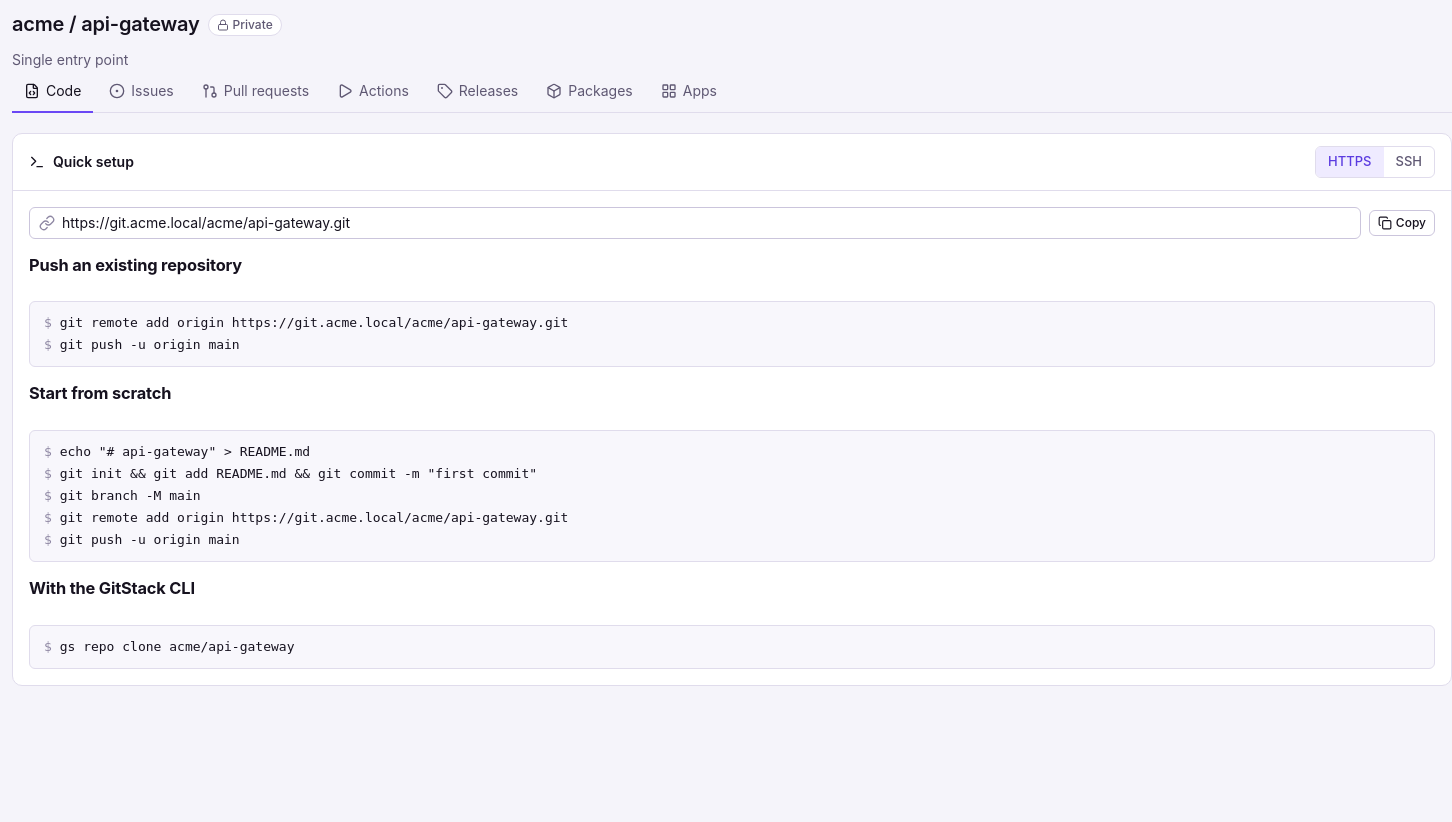
Test: RepoPage › repo vuoto: quick setup con indirizzi dalla risposta e copia
Expected: the field named "Clone URL" holds "https://git.acme.local/acme/api-gateway.git", [29,206,1361,238]
Click the button "SSH" at point(1409, 162), box [1384,147,1434,176]
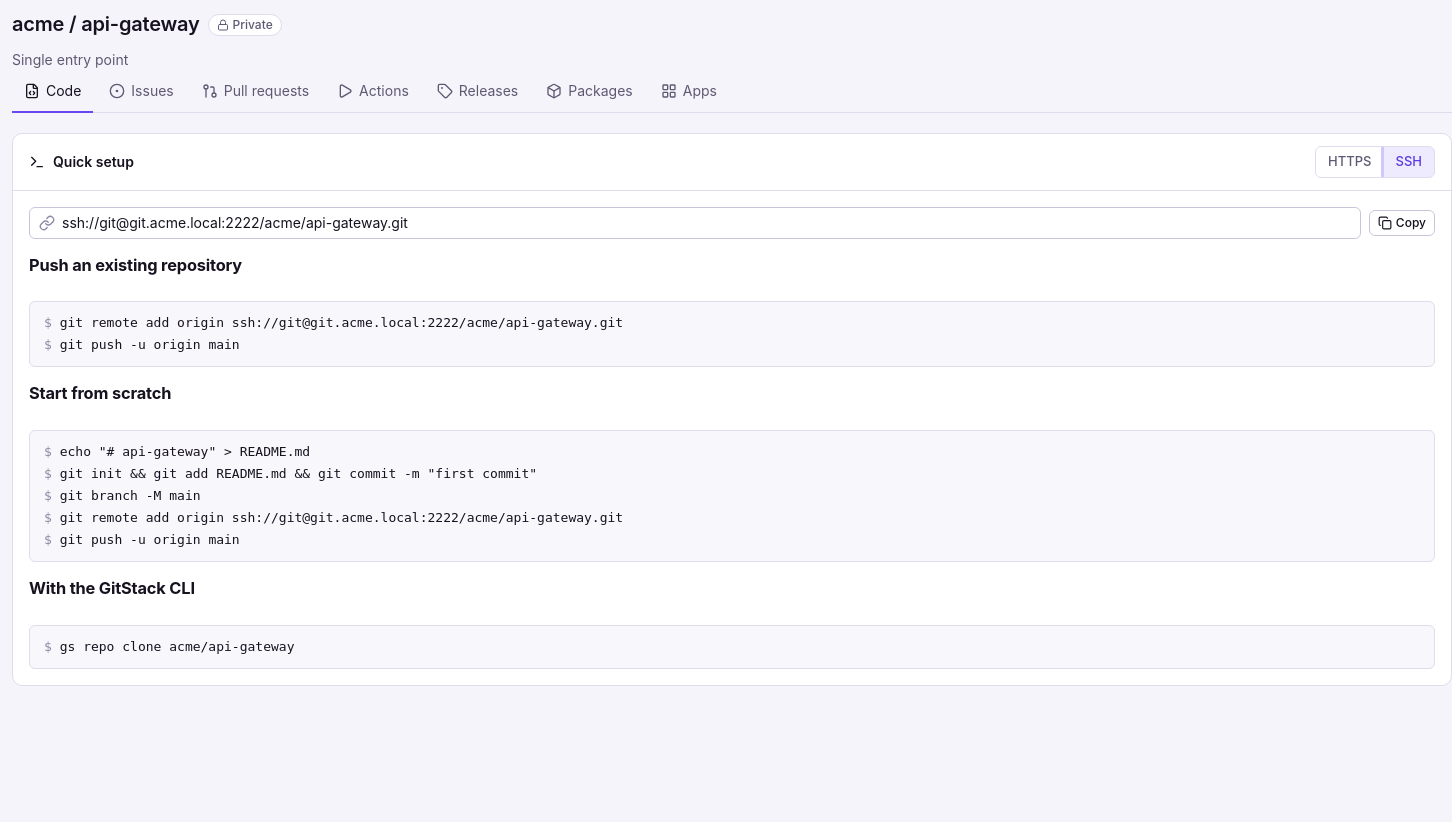
Result: the field named "Clone URL" holds "ssh://git@git.acme.local:2222/acme/api-gateway.git" at [29,206,1361,238]
Click the button "Copy" at point(1402, 222), box [1369,210,1435,236]
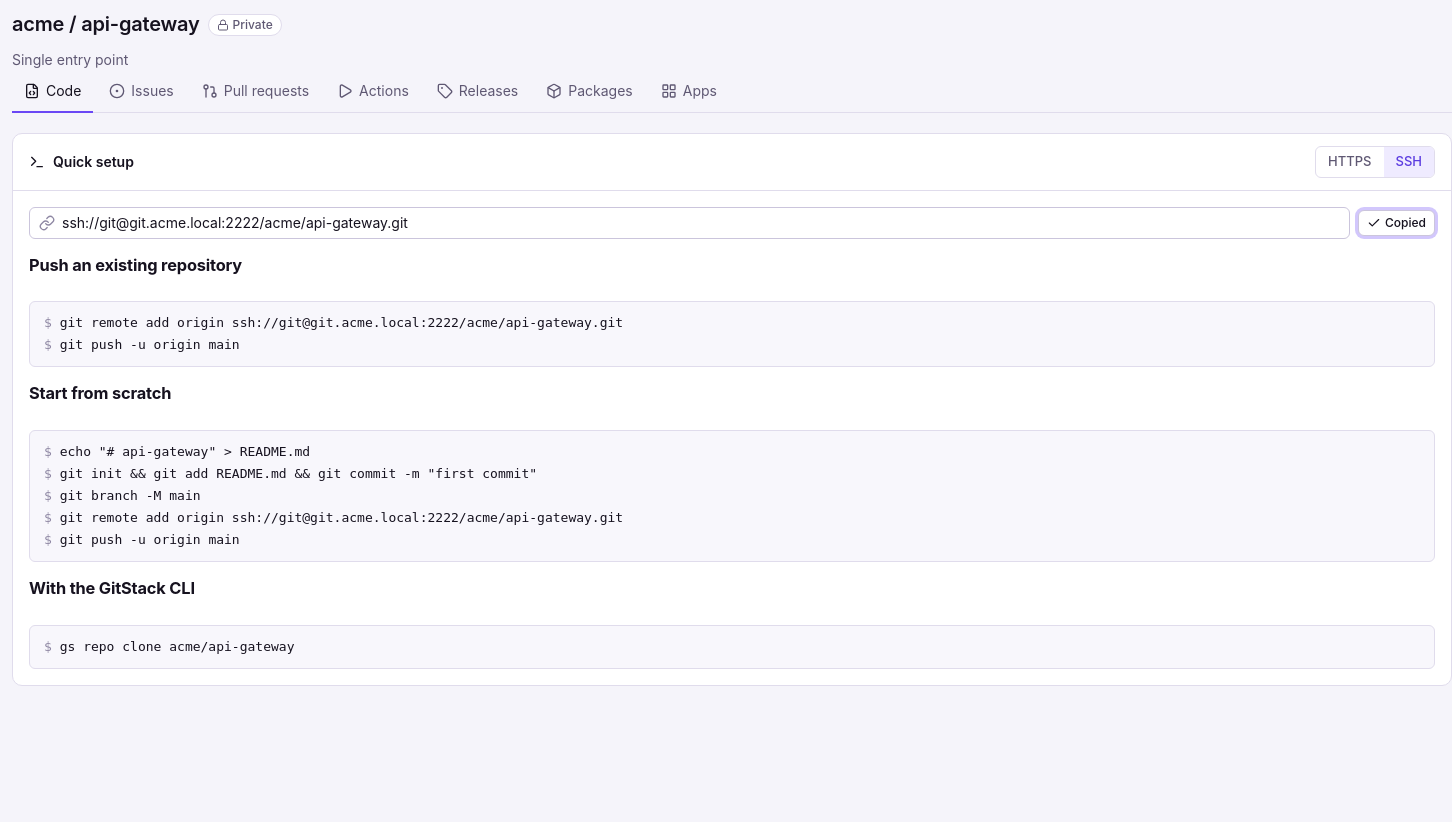
Result: the button "Copied" is shown at [1358,210,1435,236]
